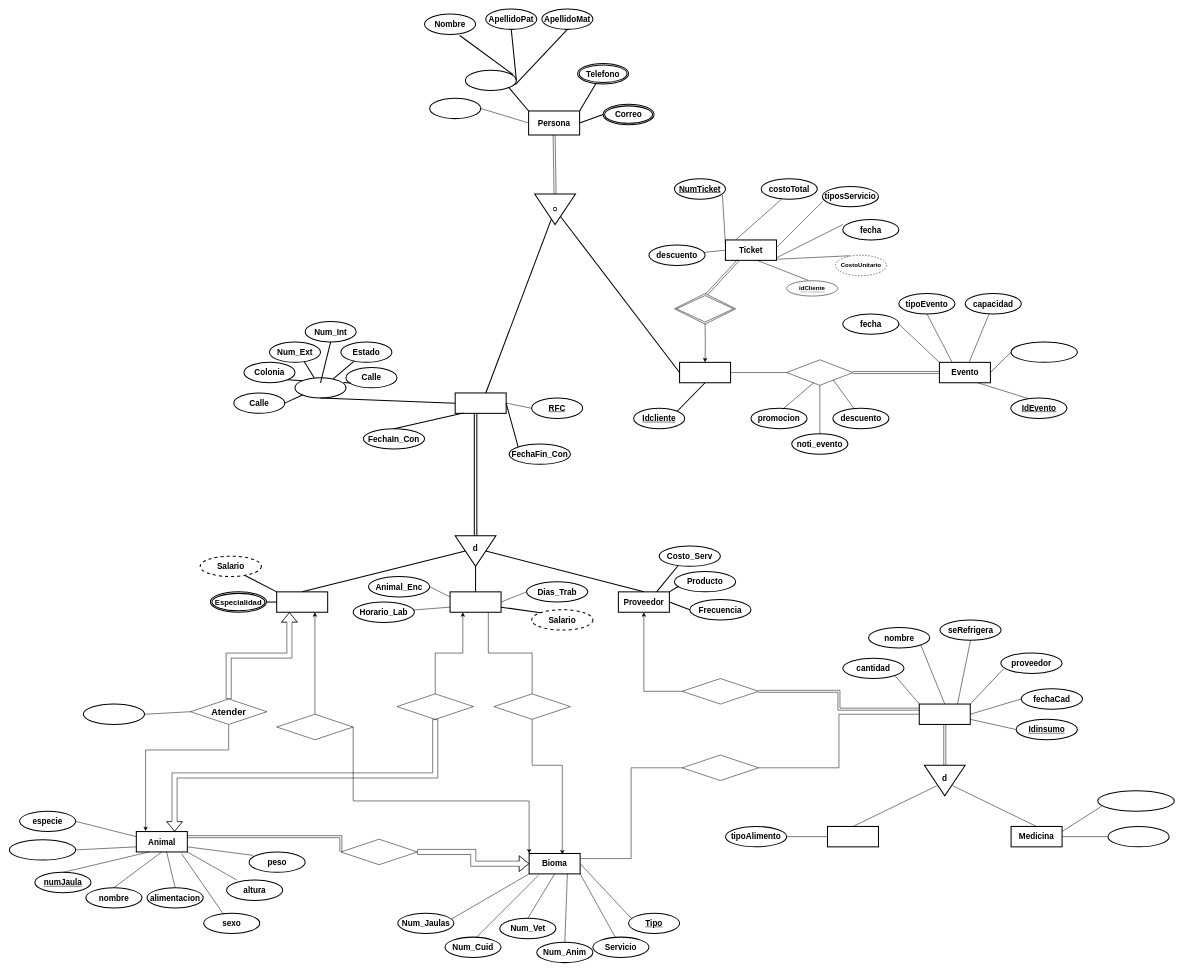
The diagram is 1184 pixels wide and 972 high, and some of its shapes have lost their labels. Here are the shapes that lost their labels. From the top down, the box of each, then its label:
(465, 69, 517, 91): NombreC
(429, 97, 481, 119): Genero
(674, 293, 736, 324): Asignar
(786, 359, 853, 385): Notificar
(1010, 341, 1078, 363): listaAsistentes
(294, 377, 346, 398): Direccion
(679, 362, 731, 383): Cliente
(454, 392, 506, 414): Trabajador
(276, 591, 328, 613): Veterinario
(449, 591, 501, 613): Cuidador
(396, 693, 473, 719): Cuidar
(493, 693, 570, 719): Laborar
(682, 678, 759, 704): Proveer
(83, 703, 145, 725): mismoBioma
(276, 714, 353, 740): Trabajar
(919, 703, 971, 725): Insumo
(682, 755, 759, 781): Distribuir
(1097, 790, 1175, 811): LabProcedencia
(9, 839, 76, 860): indicacionMed
(340, 839, 417, 865): Pertenecer
(827, 826, 879, 847): Alimento
(1107, 826, 1169, 847): Lote
